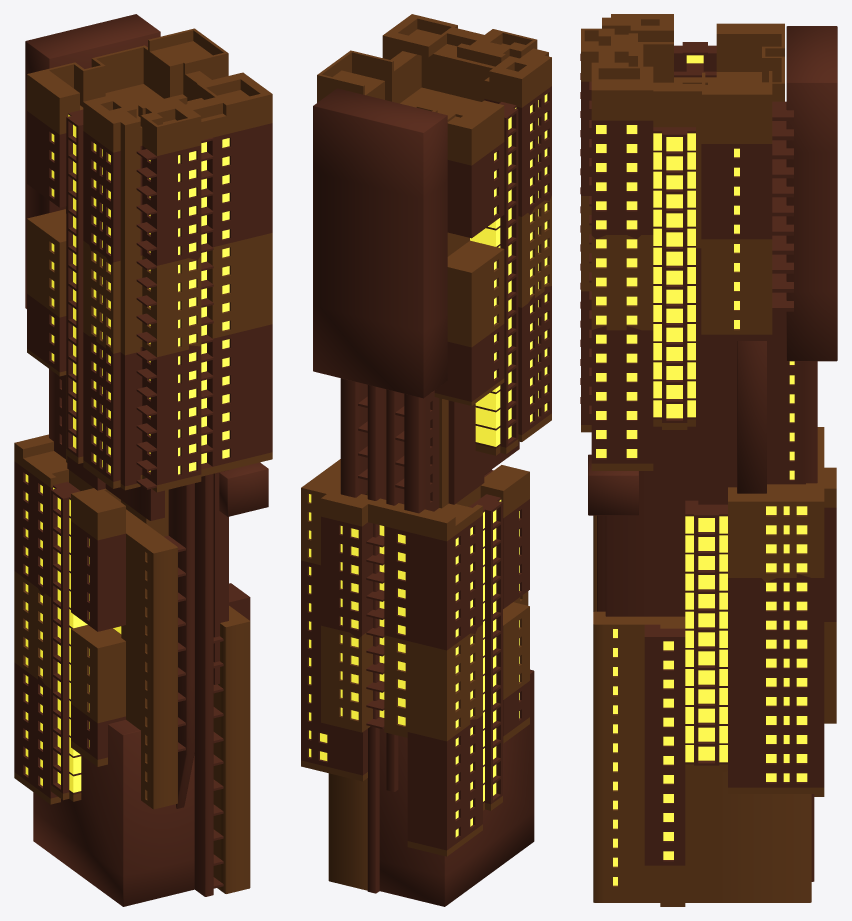
File: Advertising-Hell-Building-V4.1.fbx
The picture shows the model from 3 angles, left to right: view 1: azimuth 30°, elevation 25°; view 2: azimuth 150°, elevation 25°; view 3: azimuth 270°, elevation 25°; orthographic projection. The views are drawn at different scales.
Visible parts, largest first — view 1: Advertising-Hell-Building-V4.1; view 2: Advertising-Hell-Building-V4.1; view 3: Advertising-Hell-Building-V4.1.
Part boxes in pixels (x1,y1,x2,y2): Advertising-Hell-Building-V4.1: (14, 14, 272, 906); Advertising-Hell-Building-V4.1: (301, 14, 551, 906); Advertising-Hell-Building-V4.1: (580, 14, 837, 906).
Bounding box in the file's own units: 1794 × 8374 × 2370.
